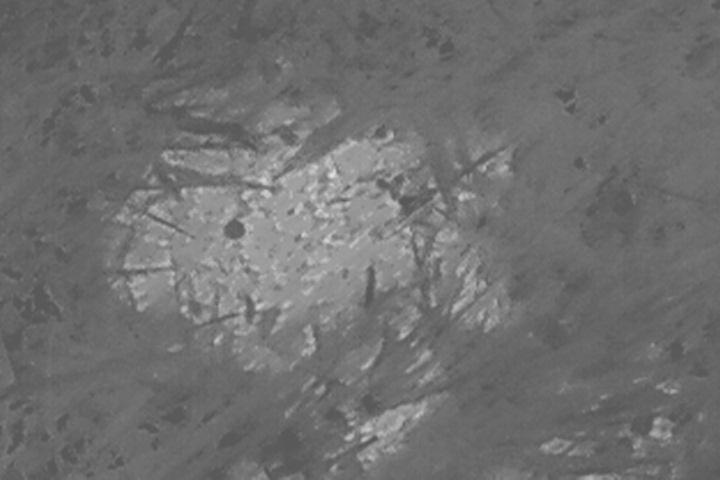landmine: (114, 92, 507, 358)
